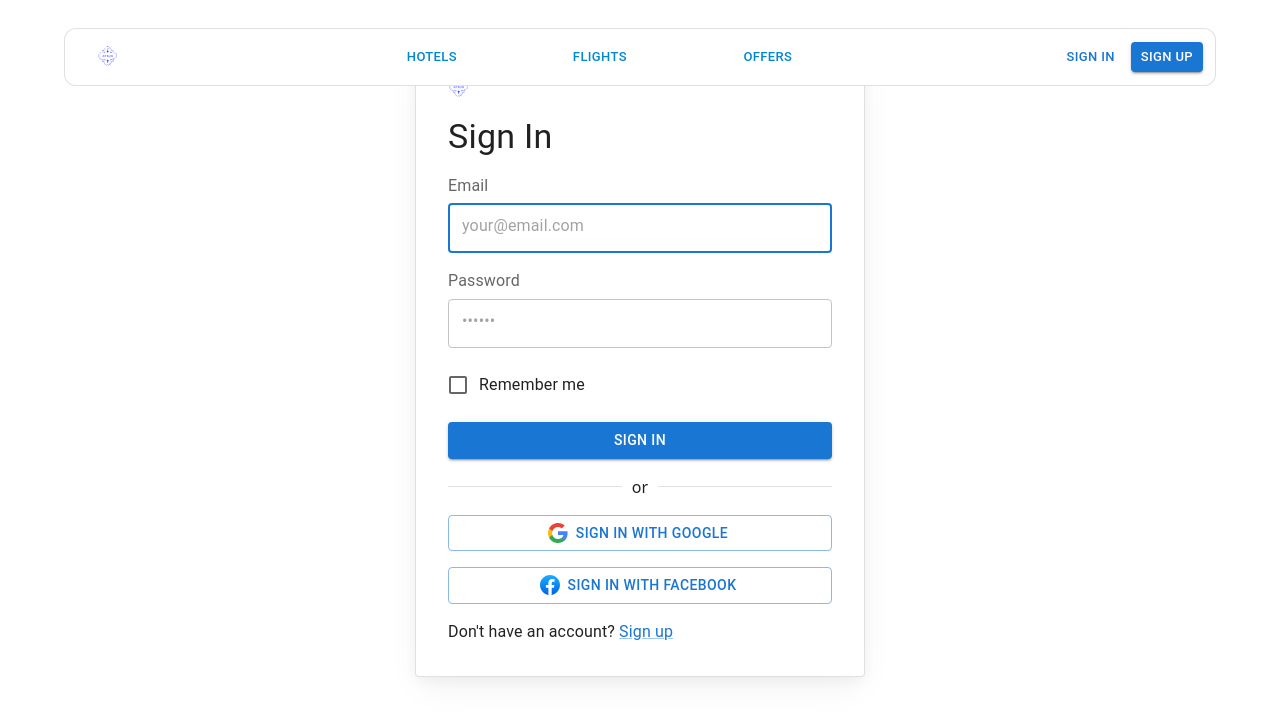
Test: Connexion utilisateur › should display an error with invalid credentials
In the field named "email": (640, 225) [448,197,832,253], type "invalid@example.com"
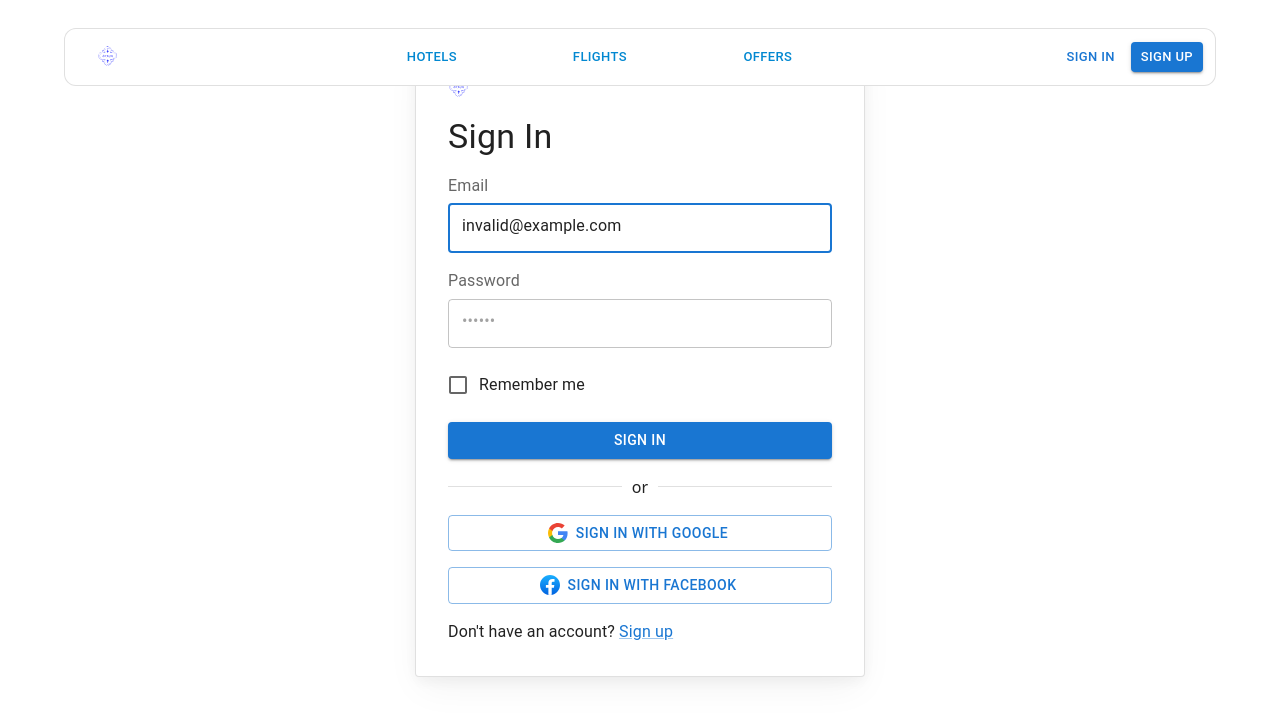
In the password field named "password": (640, 320) [448,292,832,348], type "Wrongpassword1."
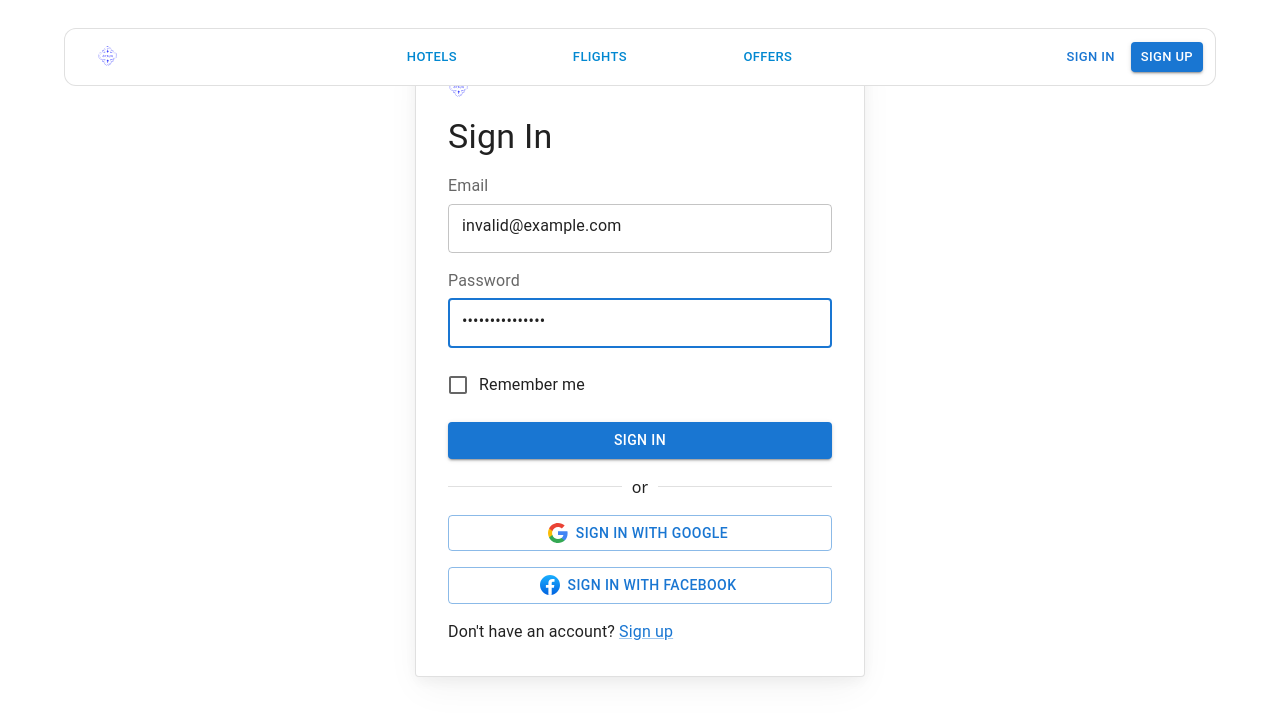
Click the submit button: click(640, 441) [448,422,832,459]
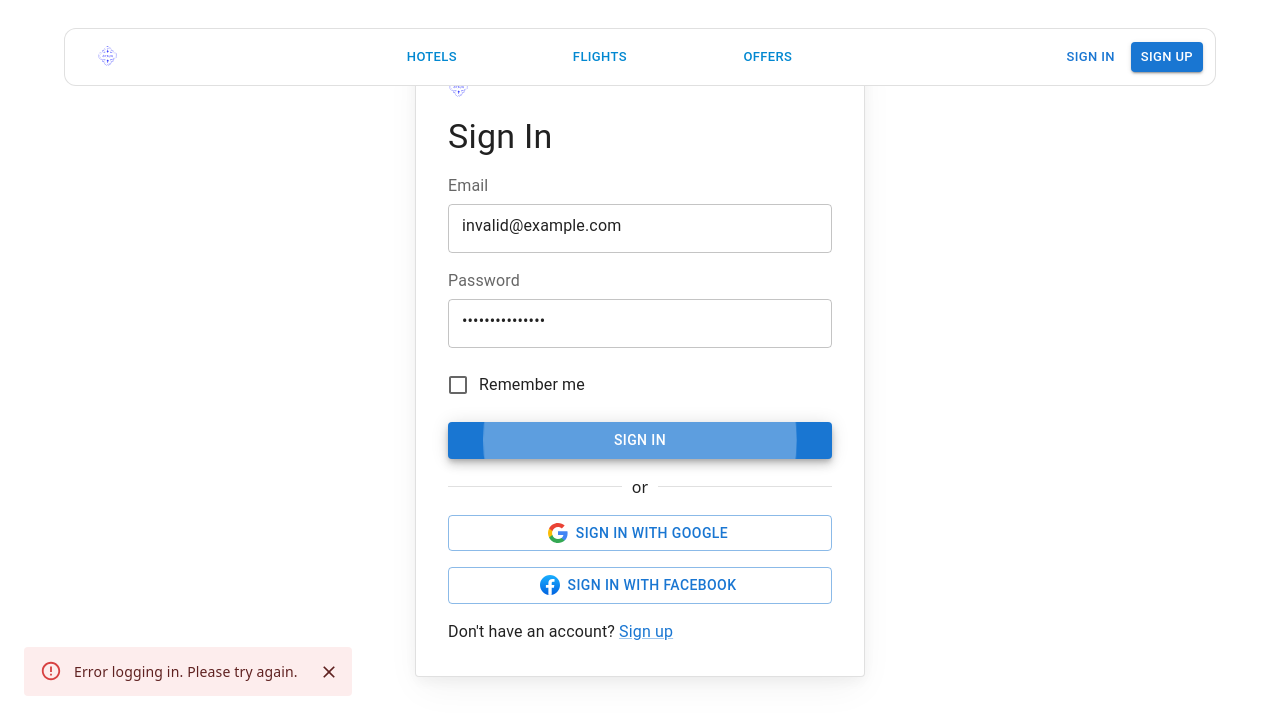
Expected: the text "Error logging in. Please try again." is shown, [74,662,298,681]
